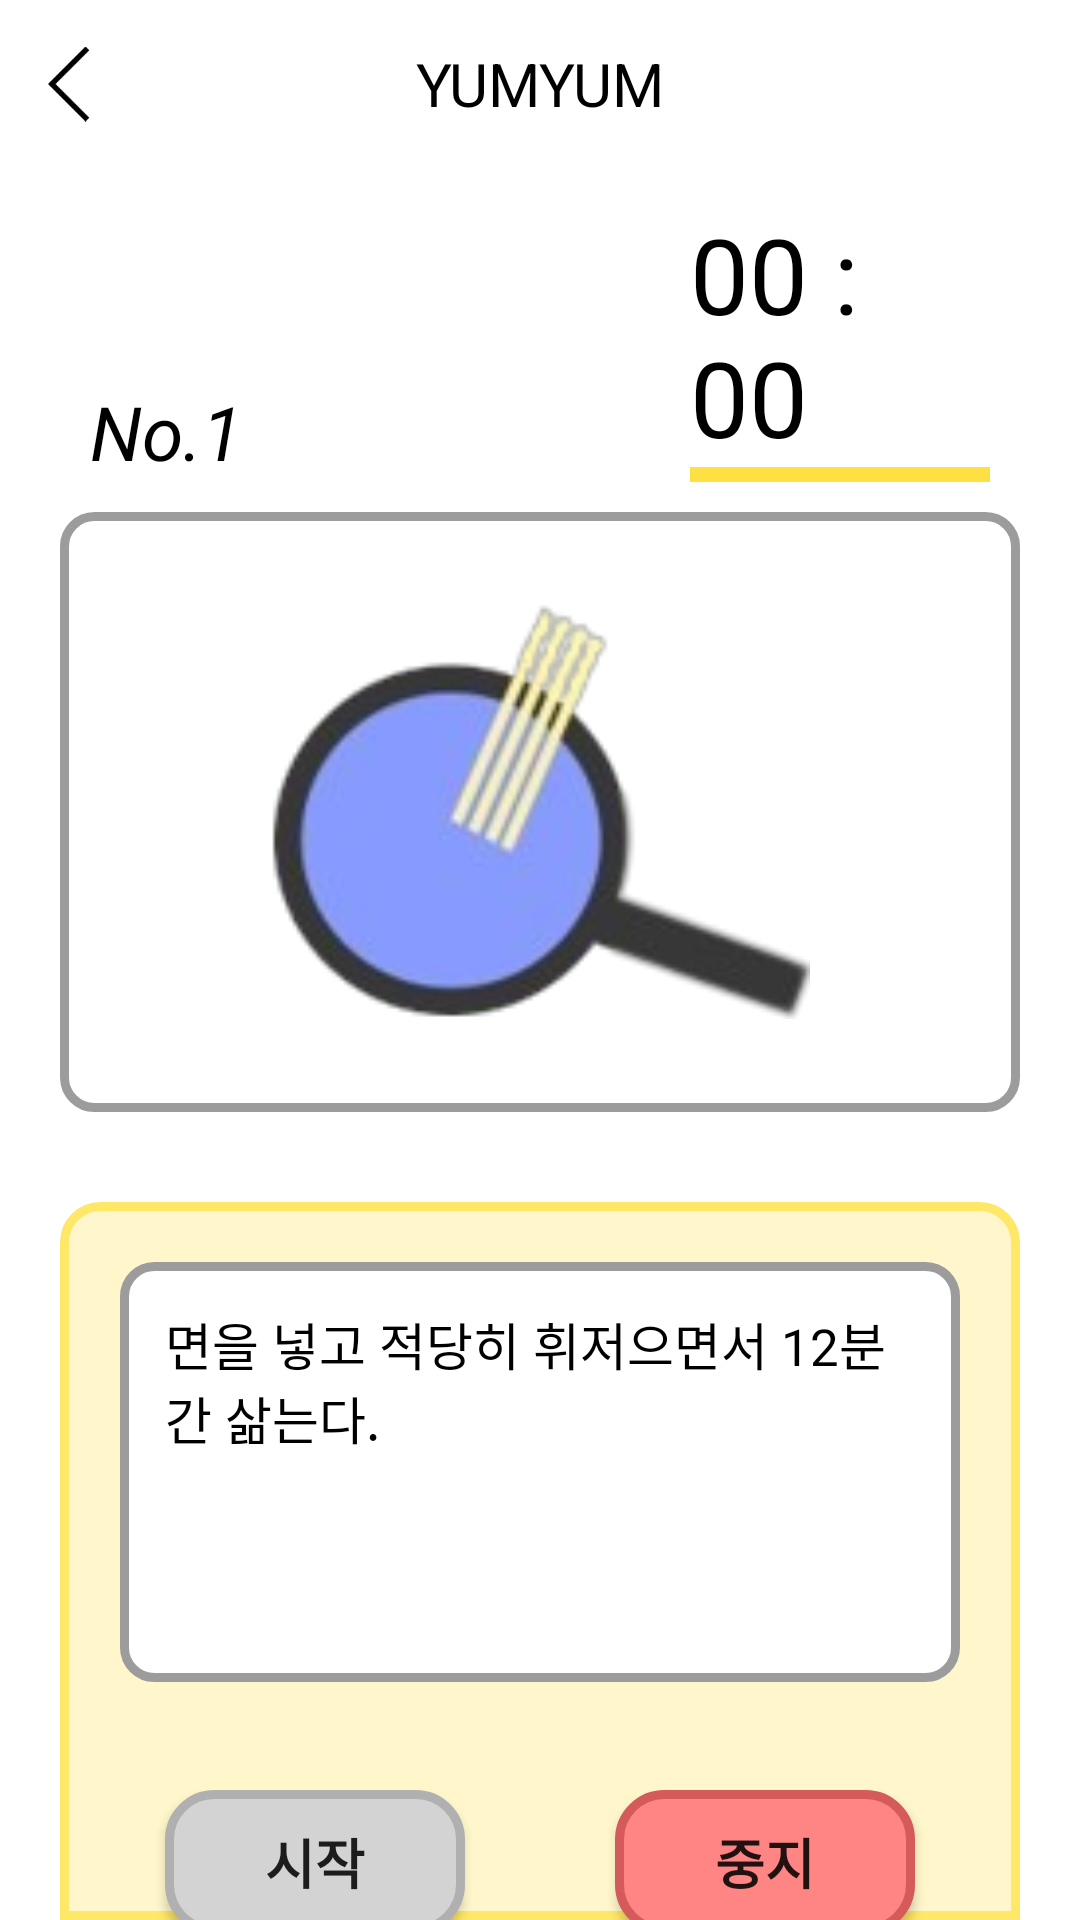

Named icons in this screenshot (1080×1920) and their centers, [x,y]:
back: [68,84]
